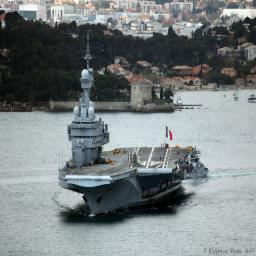Portanaves: (59, 34, 199, 220)
